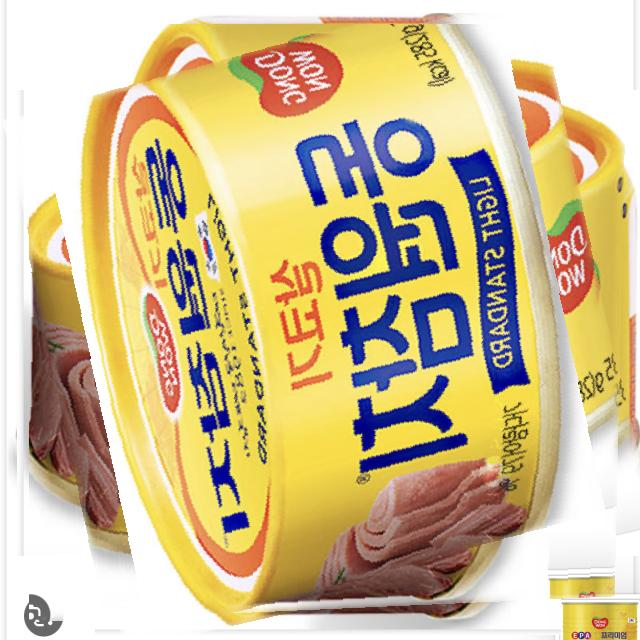recyclable: (29, 24, 628, 623)
